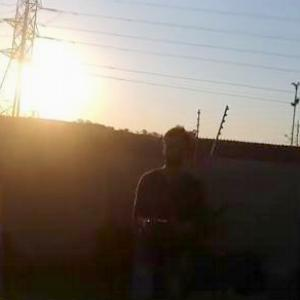follow: (123, 118, 210, 299)
